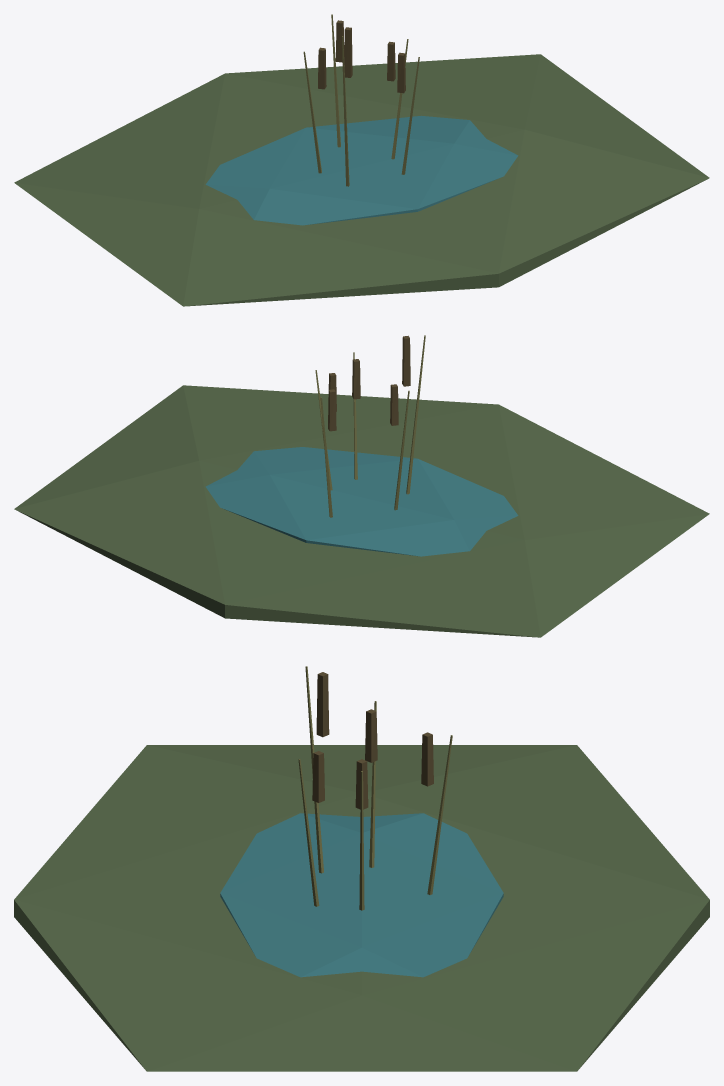
File: marsh_ground-far.glb
The picture shows the model from 3 angles, top to bottom: view 1: azimuth 30°, elevation 25°; view 2: azimuth 150°, elevation 25°; view 3: azimuth 270°, elevation 25°; orthographic projection. The views are drawn at different scales.
Visible parts, largest first — view 1: world-scenery/marsh_ground-far; view 2: world-scenery/marsh_ground-far; view 3: world-scenery/marsh_ground-far.
Part boxes in pixels (x1=…): world-scenery/marsh_ground-far: x1=14, y1=14, x2=709, y2=306; world-scenery/marsh_ground-far: x1=14, y1=335, x2=709, y2=637; world-scenery/marsh_ground-far: x1=14, y1=666, x2=709, y2=1071.
Size of the model in its own units: 5.1 by 1.68 by 4.59.
